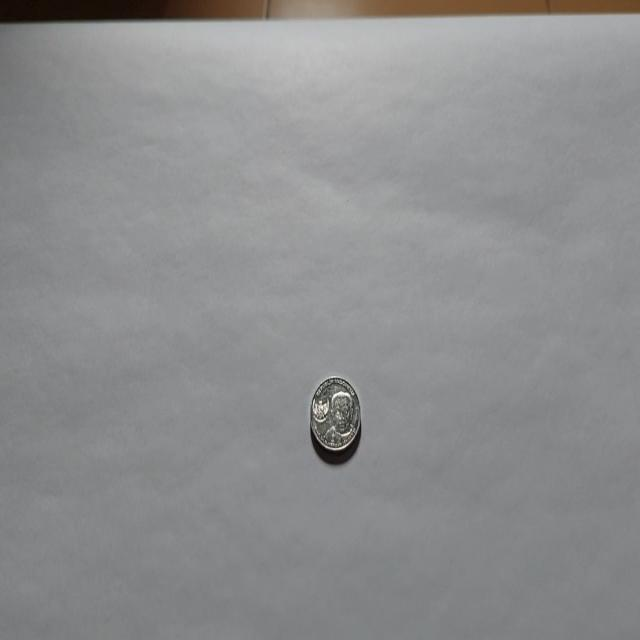seratus rupiah: (309, 374, 361, 455)
